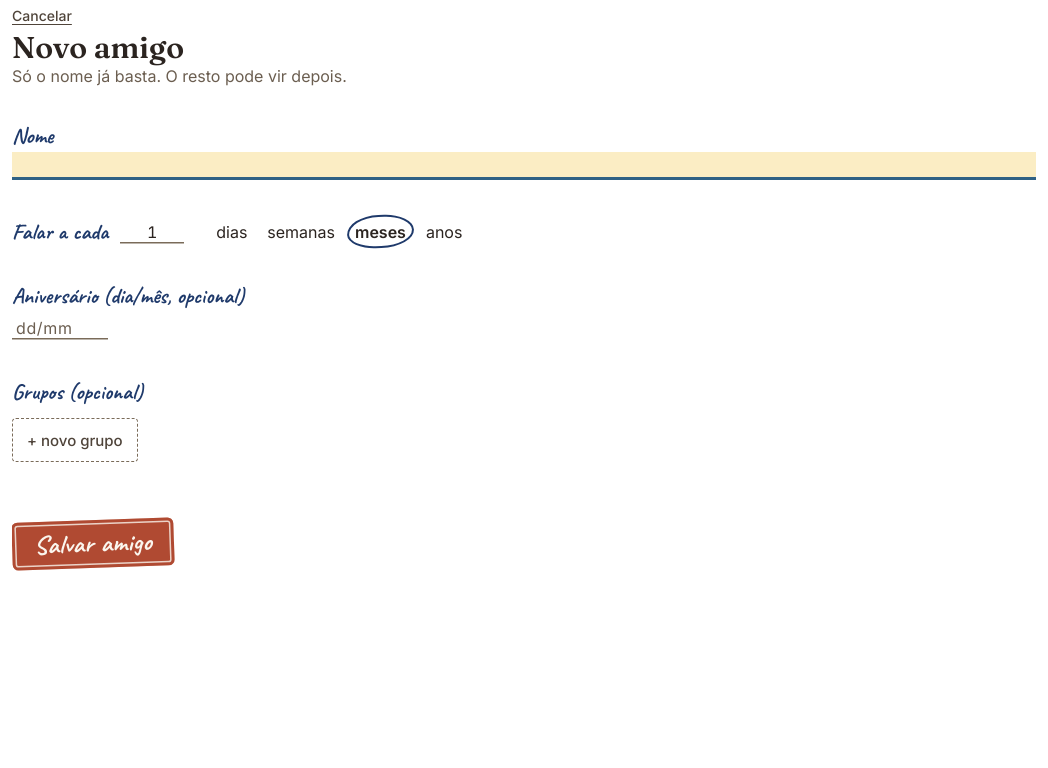
New friend form › links a validation error to its field and keeps the typed name
This screenshot has width=1048, height=768.
Type "Ana" into the field named "name". click: (524, 160)
box: top-left (12, 136), bottom-right (1036, 184)
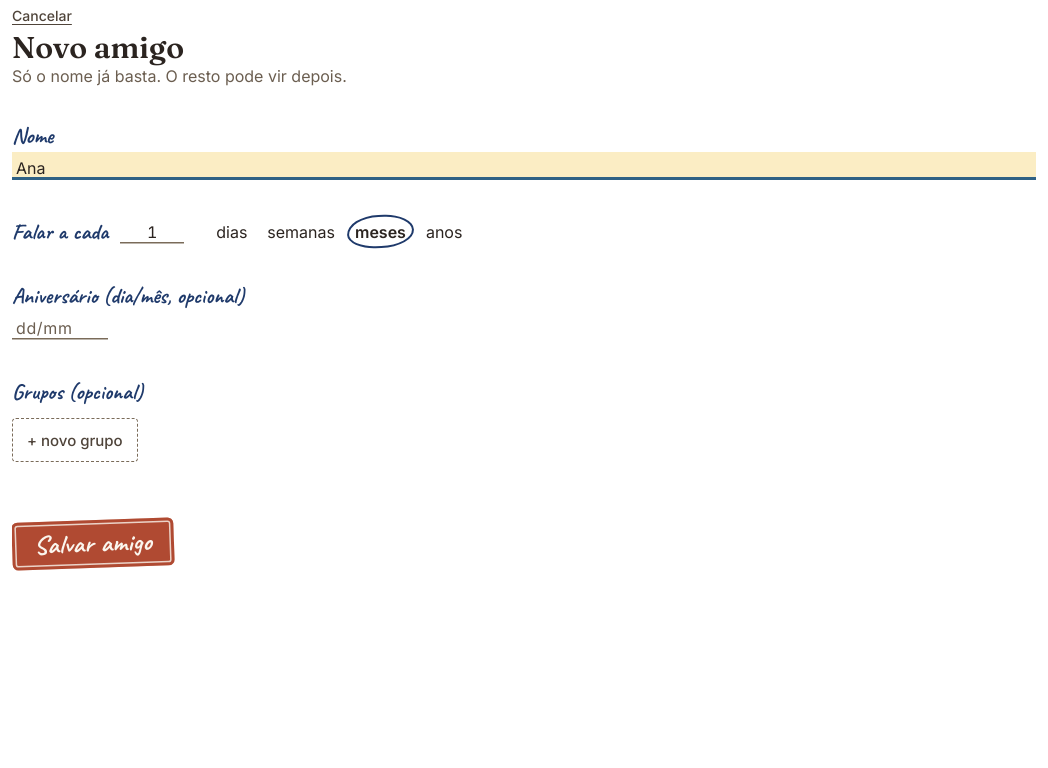
Submit the form, box top-left (12, 120), bottom-right (1036, 568)
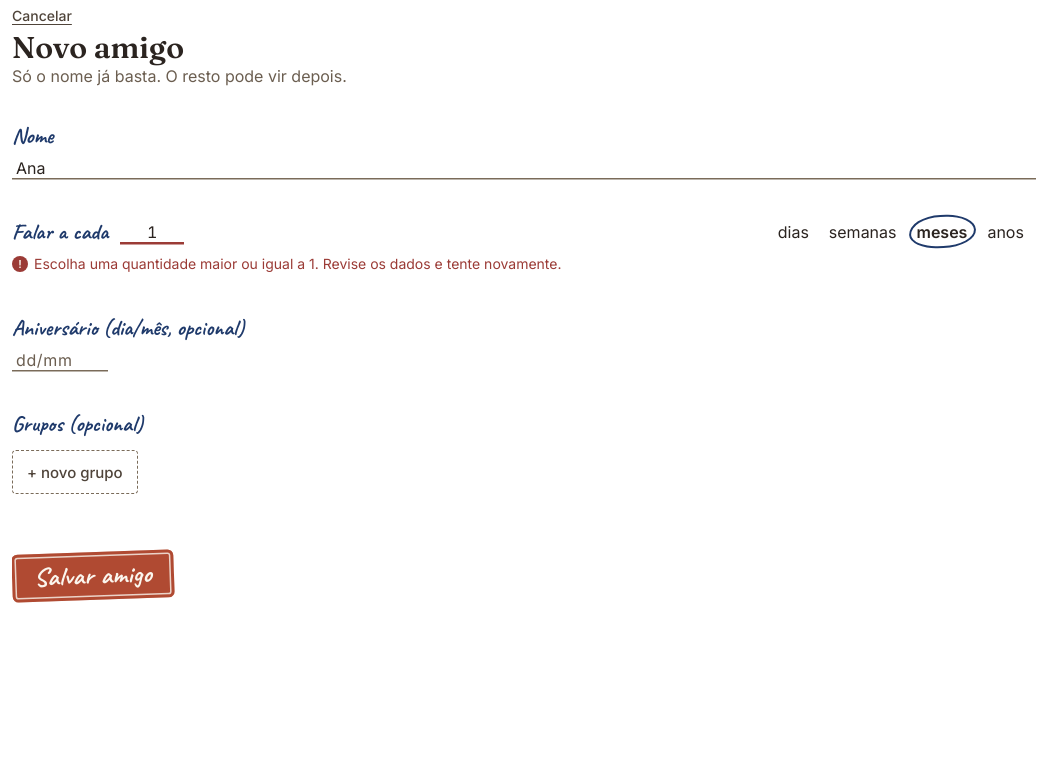
Now the message with id "friend-cadence_amount-error" shows "Escolha uma quantidade maior ou igual a 1.", box top-left (34, 255), bottom-right (562, 272)
